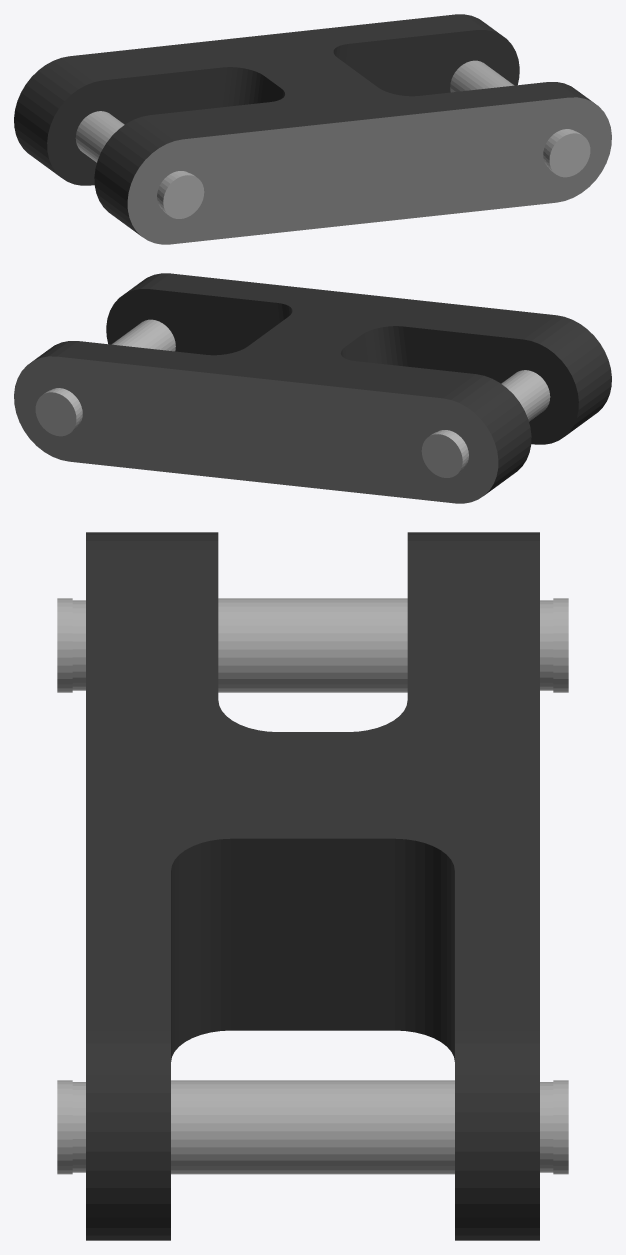
Rendered from robotiq_85_finger_link.glb.
The picture shows the model from 3 angles, top to bottom: view 1: azimuth 30°, elevation 25°; view 2: azimuth 150°, elevation 25°; view 3: azimuth 270°, elevation 25°; orthographic projection. The views are drawn at different scales.
Parts seen in each view (by area): view 1: world; view 2: world; view 3: world.
Boxes of the visible parts, x1,y1,x2,y2 form: world: (14,14,611,244); world: (14,273,611,503); world: (57,532,568,1240).
Bounding box in the file's own units: 0.0591 × 0.0181 × 0.027.
Materials: 1 (1 with a texture image).
